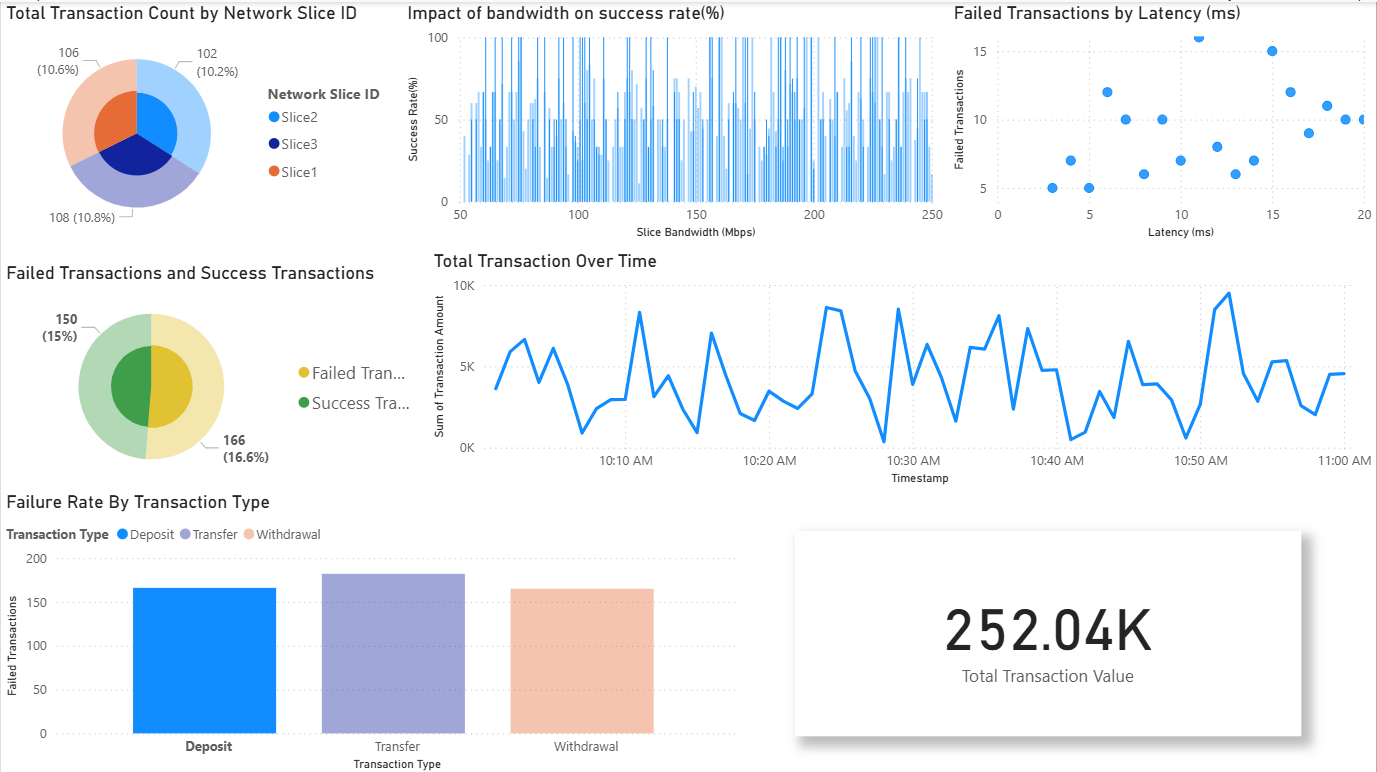

The page's visual inventory and layout, read from the dashboard file:
{"tool":"powerbi","page":{"name":"Page 1","canvas":[1280,720],"ordinal":0},"visuals":[{"type":"card","fields":{"Values":["transaction_data.Toutal Transaction Value"]},"box":[738.6,491.4,471.4,191.4],"z":0},{"type":"lineChart","title":"Total Transaction Over Time","fields":{"Y":["Sum(transaction_data.Transaction Amount)"],"Category":["transaction_data.Timestamp"]},"box":[397.1,230,882.9,224.3],"z":2000},{"type":"pieChart","fields":{"Y":["transaction_data.Failed Transactions","transaction_data.Success Transactions"]},"box":[0,241.4,397.1,212.9],"z":3000},{"type":"columnChart","title":"Failure Rate By Transaction Type","fields":{"Y":["transaction_data.Failed Transactions"],"Series":["transaction_data.Transaction Type"],"Category":["transaction_data.Transaction Type","transaction_data.Device Used"]},"box":[0,454.3,690,265.7],"z":4000},{"type":"scatterChart","fields":{"X":["transaction_data.Latency (ms)"],"Y":["transaction_data.Failed Transactions"]},"box":[881.4,0,398.6,225.7],"z":6000},{"type":"pieChart","fields":{"Category":["transaction_data.Network Slice ID"],"Y":["transaction_data.Total Transaction Count"]},"box":[0,0,372.9,225.7],"z":7000},{"type":"clusteredColumnChart","title":"Impact of bandwidth on success rate(%)","fields":{"Y":["transaction_data.Success Rate(%)"],"Category":["transaction_data.Slice Bandwidth (Mbps)"]},"box":[372.9,0,508.6,225.7],"z":8000}]}

Visuals, with their boxes in screenshot pixels (x1, y1, x2, y2), scaled from the page's 1280x720 canvas onto the 1377x772 screenshot:
card - transaction_data.Toutal Transaction Value: [795, 527, 1302, 732]
"Total Transaction Over Time" lineChart: [427, 247, 1376, 487]
pieChart - transaction_data.Failed Transactions x transaction_data.Success Transactions: [0, 259, 427, 487]
"Failure Rate By Transaction Type" columnChart: [0, 487, 742, 771]
scatterChart - transaction_data.Latency (ms) x transaction_data.Failed Transactions: [948, 0, 1376, 242]
pieChart - transaction_data.Network Slice ID x transaction_data.Total Transaction Count: [0, 0, 401, 242]
"Impact of bandwidth on success rate(%)" clusteredColumnChart: [401, 0, 948, 242]
